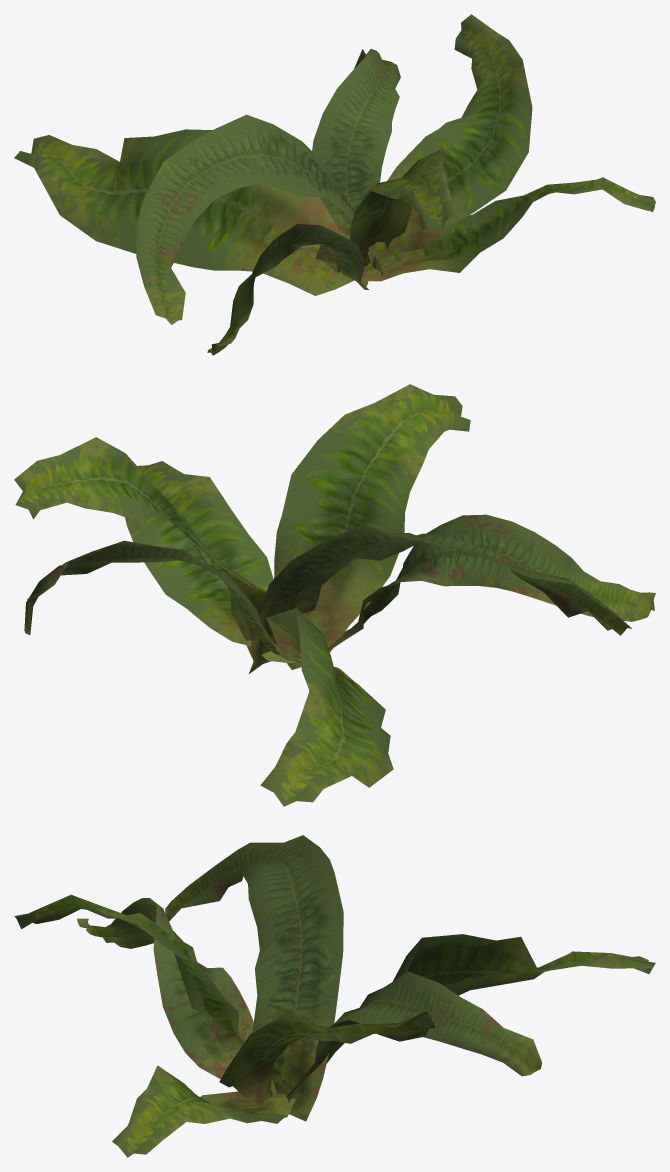
Rendered from Planta_14.glb.
The picture shows the model from 3 angles, top to bottom: view 1: azimuth 30°, elevation 25°; view 2: azimuth 150°, elevation 25°; view 3: azimuth 270°, elevation 25°; orthographic projection. The views are drawn at different scales.
Visible parts, largest first — view 1: Planta 14; view 2: Planta 14; view 3: Planta 14.
Part boxes in pixels (left/top/right/bottom): Planta 14: left=14, top=14, right=655, bottom=355; Planta 14: left=14, top=384, right=655, bottom=806; Planta 14: left=14, top=835, right=655, bottom=1157.
Bounding box in the file's own units: 1.03 × 0.3836 × 1.07.
Materials: 1 (1 with a texture image).
